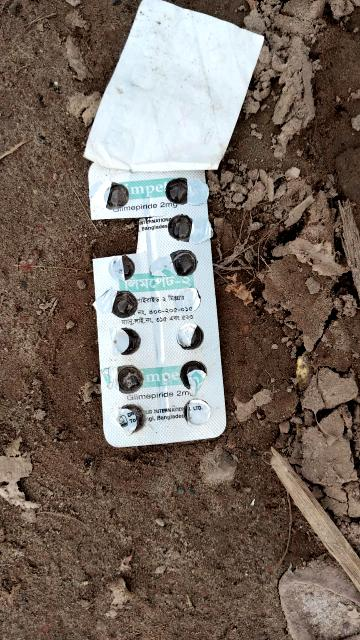medicine: (83, 111, 240, 451)
